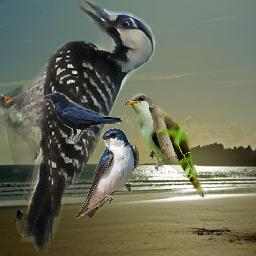Crow: (41, 92, 123, 144)
Cuckoo: (122, 93, 209, 198)
Swallow: (75, 127, 140, 219)
Woodpecker: (0, 0, 157, 255)
